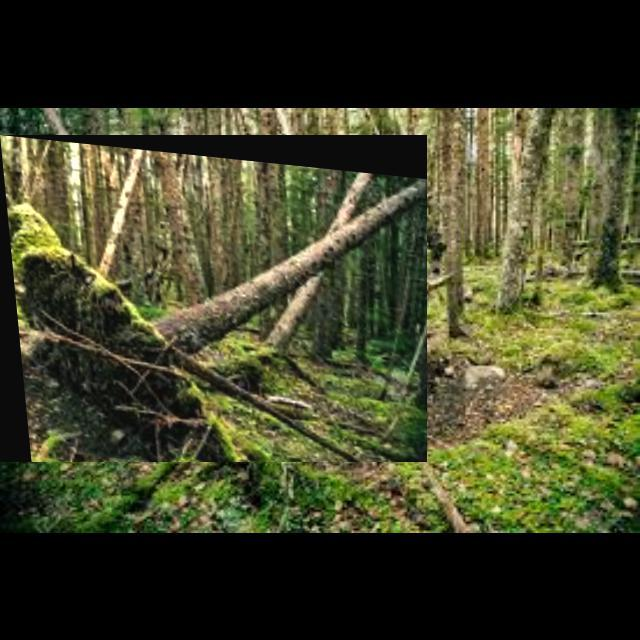fallen_tree: (0, 135, 428, 463)
